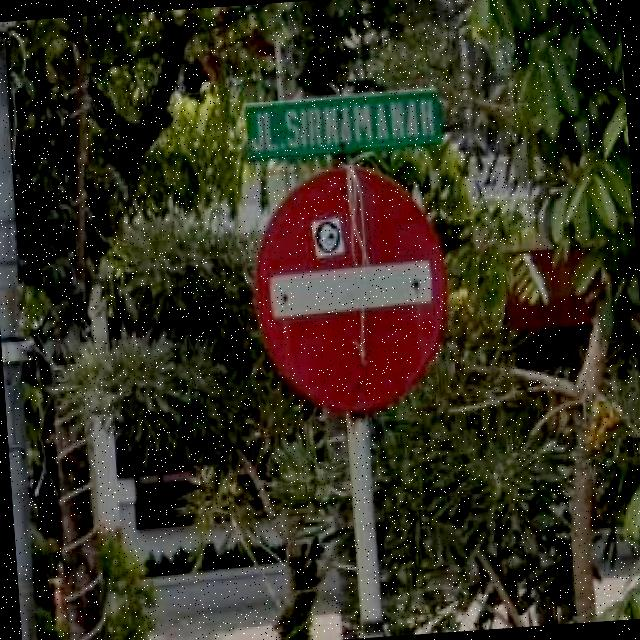Zakaz wjazdu: (246, 160, 454, 422)
